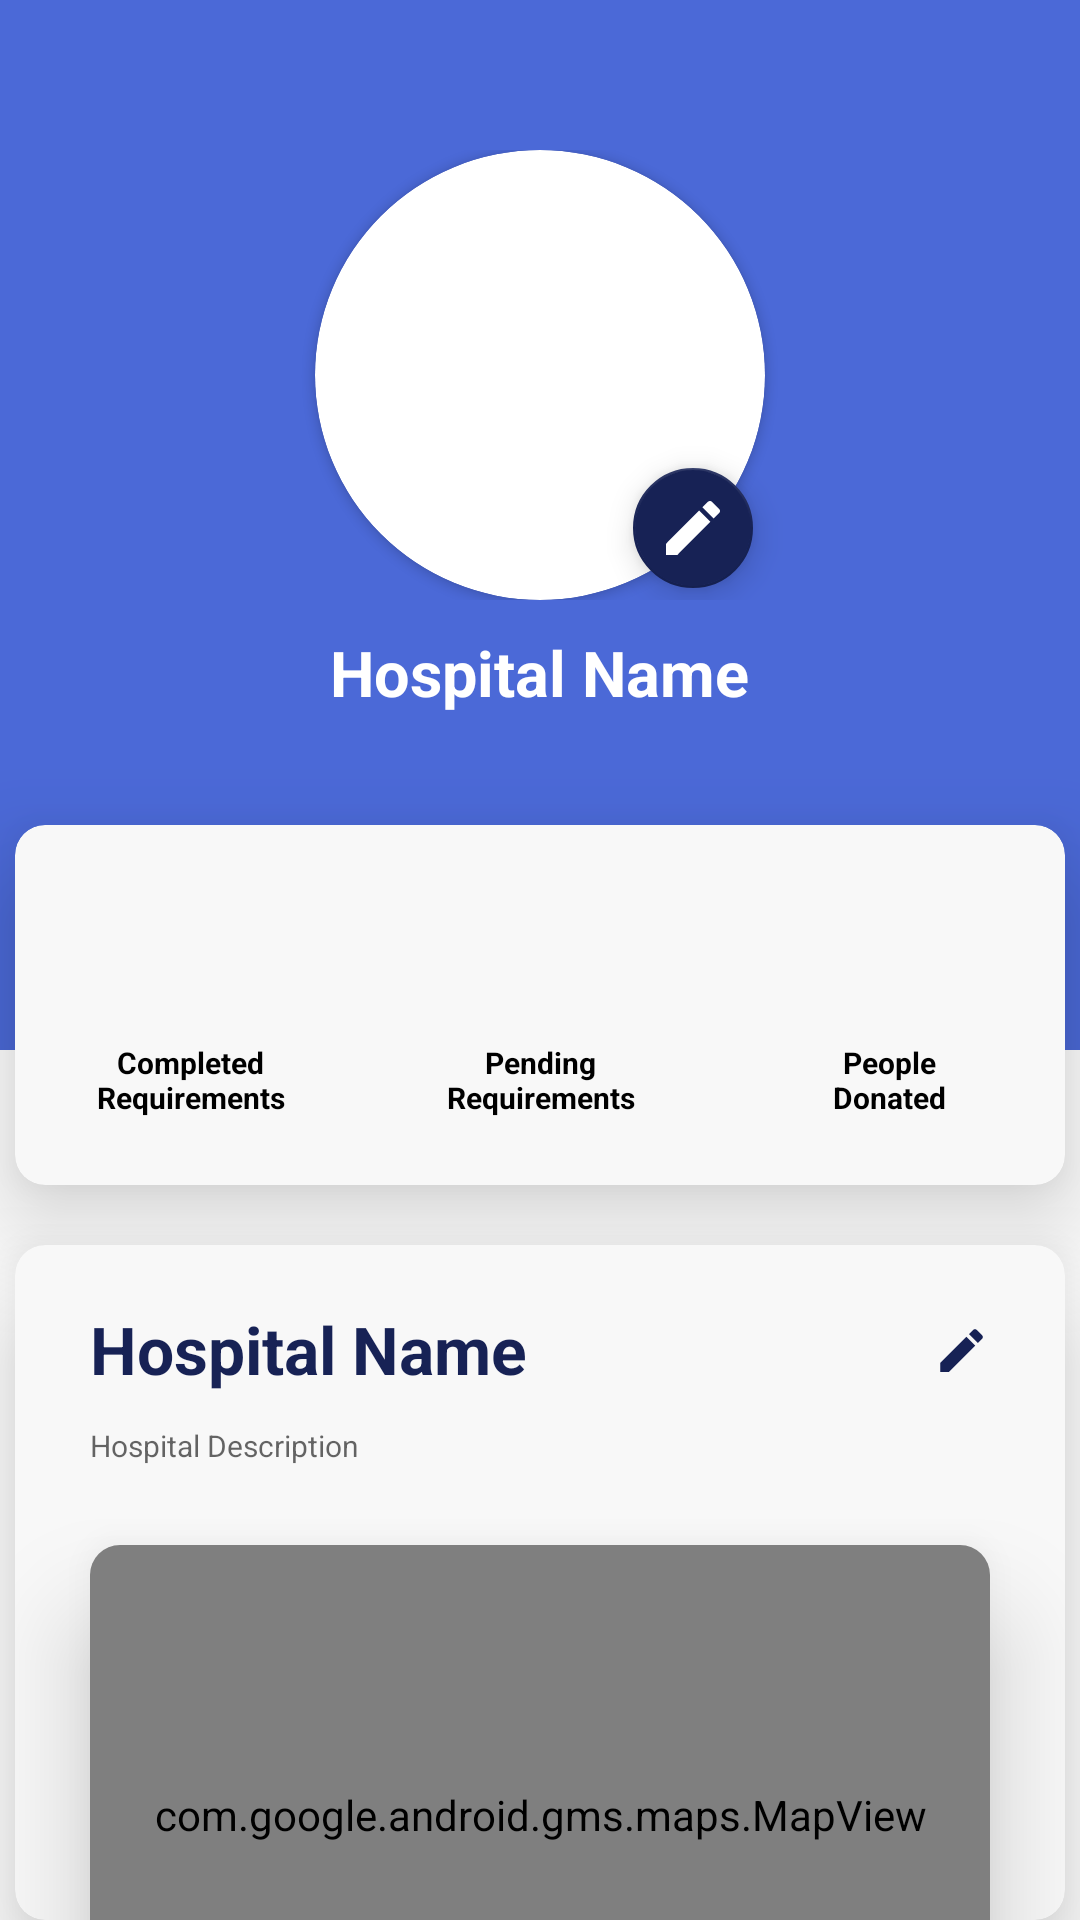

Point at icon controls on the screen. Image size 1080*1920, points as (x=x, y=y).
edit: (x=693, y=528), (x=961, y=1350)
